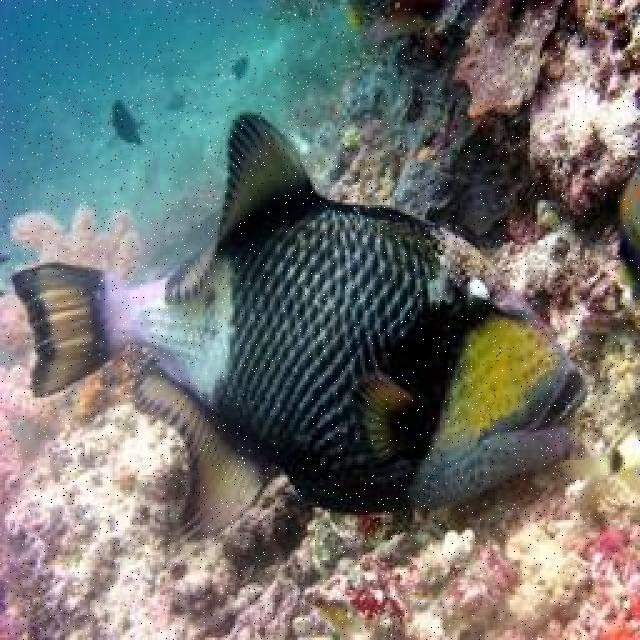fish: (11, 112, 589, 547), (112, 98, 143, 147)
reefs: (0, 273, 638, 638)
